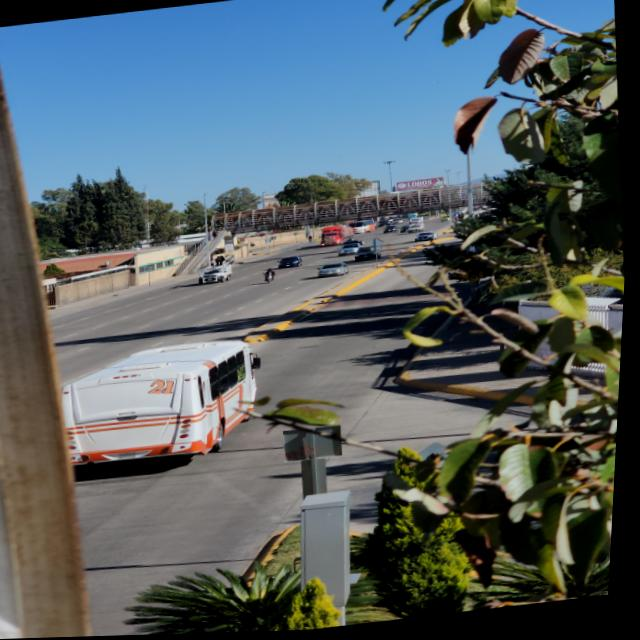Auto: (320, 263, 351, 279), (278, 257, 306, 271), (342, 243, 368, 258), (418, 234, 439, 246)
Autobus: (59, 335, 267, 477)
